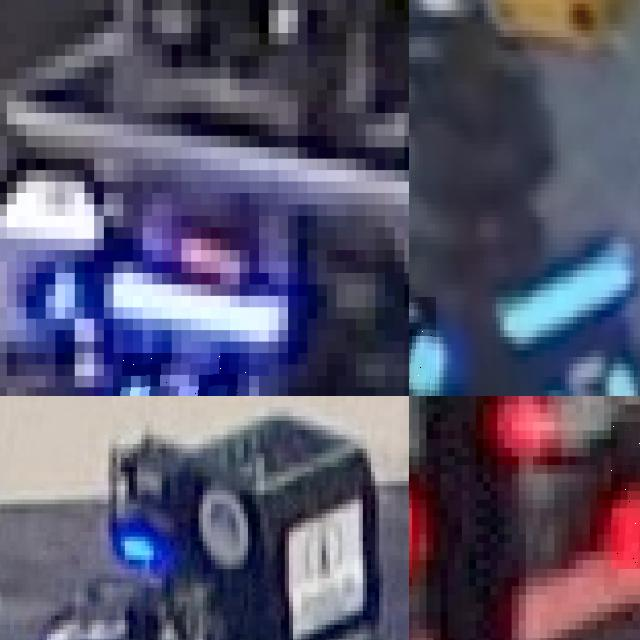B2: (113, 353, 249, 396)
B3: (1, 601, 116, 640)
B5: (536, 357, 640, 396), (409, 297, 435, 396)
R4: (611, 422, 640, 569)
